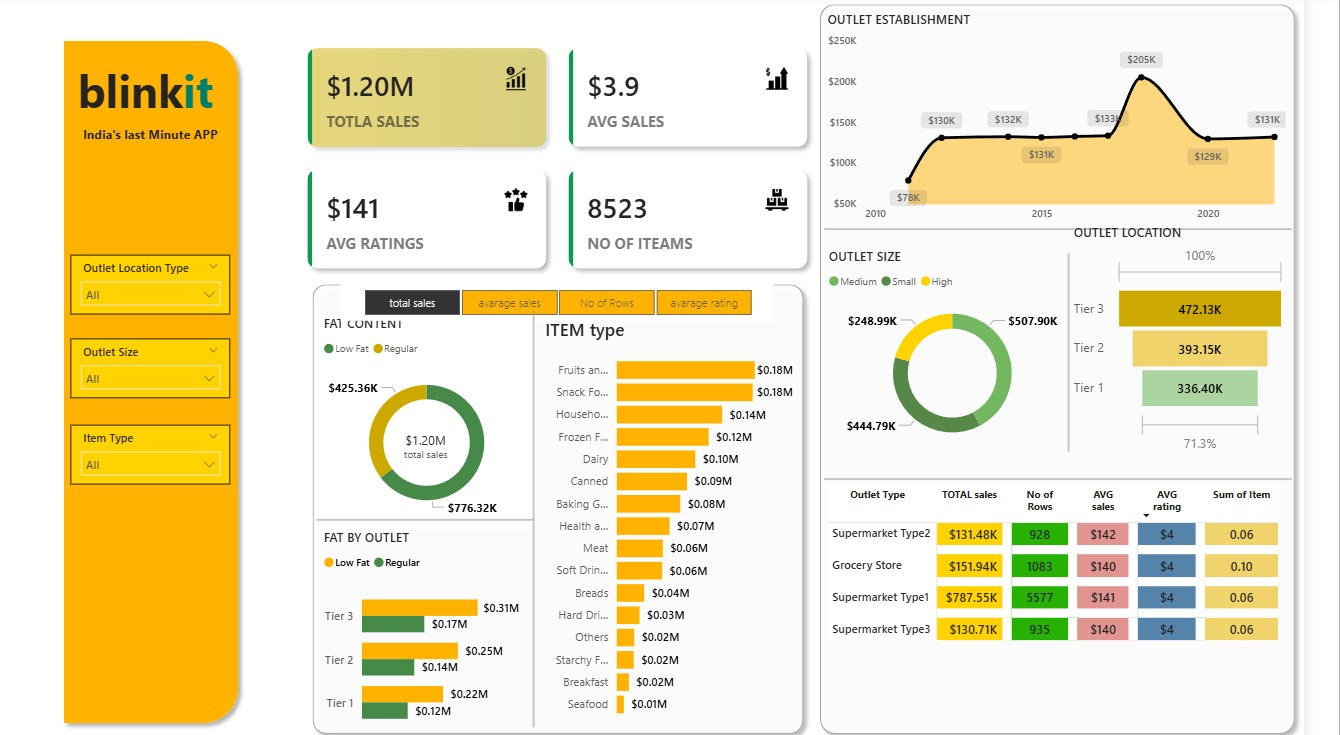

Layout of this report page (visuals, bound fields, positions):
{"tool":"powerbi","page":{"name":"Page 1","canvas":[1400,800],"ordinal":0},"visuals":[{"type":"shape","box":[61.5,39,205,750],"z":0},{"type":"textbox","box":[80.4,63,164.9,85.8],"z":1000},{"type":"textbox","box":[77.7,134,171.6,30.8],"z":2000},{"type":"cardVisual","fields":{"Data":["BlinkIT Grocery Data.total sales","BlinkIT Grocery Data.avarage rating","BlinkIT Grocery Data.avarage sales","BlinkIT Grocery Data.No of Rows"]},"box":[315,38.9,570,270],"z":3000},{"type":"shape","box":[328.4,300.3,544.2,500],"z":4000},{"type":"donutChart","title":"FAT CONTENT","fields":{"Y":["BlinkIT Grocery Data.total sales"],"Category":["BlinkIT Grocery Data.Item Fat Content"]},"box":[344.5,341.8,230.6,229.2],"z":5000},{"type":"slicer","title":"fat b","fields":{"Values":["Matrics.Matrics"]},"box":[367.3,308.3,465.1,40.2],"z":6000},{"type":"cardVisual","fields":{"Data":["BlinkIT Grocery Data.total sales"]},"box":[410.2,442.4,97.9,81.8],"z":7000},{"type":"clusteredBarChart","title":"FAT BY OUTLET","fields":{"Y":["BlinkIT Grocery Data.total sales"],"Category":["BlinkIT Grocery Data.Outlet Location Type"],"Series":["BlinkIT Grocery Data.Item Fat Content"]},"box":[344.5,570.8,219.8,229.2],"z":8000},{"type":"shape","box":[341.8,552.3,233.2,18.8],"z":9000},{"type":"shape","box":[556.3,337.8,36.2,446.4],"z":10000},{"type":"clusteredBarChart","title":"ITEM type","fields":{"Y":["BlinkIT Grocery Data.total sales"],"Category":["BlinkIT Grocery Data.Item Type"]},"box":[581.8,344.5,276.1,439.7],"z":11000},{"type":"shape","box":[872.7,0,526.8,800.3],"z":12000},{"type":"lineChart","title":"OUTLET ESTABLISHMENT","fields":{"Y":["BlinkIT Grocery Data.total sales"],"Category":["BlinkIT Grocery Data.Outlet Establishment Year"]},"box":[884.7,16.1,501.3,234.6],"z":13000},{"type":"shape","box":[886.1,244,501.3,12.1],"z":14000},{"type":"donutChart","title":"OUTLET SIZE","fields":{"Category":["BlinkIT Grocery Data.Outlet Size"],"Y":["BlinkIT Grocery Data.total sales"]},"box":[886.1,269.4,275,225],"z":15000},{"type":"shape","box":[1135.4,276.1,25.5,213.1],"z":16000},{"type":"funnel","title":"OUTLET LOCATION","fields":{"Y":["Sum(BlinkIT Grocery Data.Sales)"],"Category":["BlinkIT Grocery Data.Outlet Location Type"]},"box":[1148.8,244,237.3,250.7],"z":17000},{"type":"shape","box":[886.1,512.1,501.3,12.1],"z":18000},{"type":"pivotTable","fields":{"Rows":["BlinkIT Grocery Data.Outlet Type"],"Values":["BlinkIT Grocery Data.total sales","BlinkIT Grocery Data.No of Rows","BlinkIT Grocery Data.avarage sales","BlinkIT Grocery Data.avarage rating","Avg(BlinkIT Grocery Data.Item Visibility)"]},"box":[884.7,518.8,514.7,248],"z":19000},{"type":"slicer","fields":{"Values":["BlinkIT Grocery Data.Outlet Location Type"]},"box":[77.7,277.5,171.6,64.3],"z":19001},{"type":"slicer","fields":{"Values":["BlinkIT Grocery Data.Outlet Size"]},"box":[77.7,367.3,171.6,64.3],"z":19002},{"type":"slicer","fields":{"Values":["BlinkIT Grocery Data.Item Type"]},"box":[77.7,459.8,171.6,64.3],"z":19003}]}

Visuals, with their boxes on the page's 1400x800 design canvas (x1, y1, x2, y2). These are canvas units, not pixel positions in the 1340x735 screenshot, which may show the page scaled, cropped or inside an application window:
shape: x1=62 y1=39 x2=266 y2=789
textbox: x1=80 y1=63 x2=245 y2=149
textbox: x1=78 y1=134 x2=249 y2=165
cardVisual - BlinkIT Grocery Data.total sales x BlinkIT Grocery Data.avarage rating: x1=315 y1=39 x2=885 y2=309
shape: x1=328 y1=300 x2=873 y2=800
"FAT CONTENT" donutChart: x1=344 y1=342 x2=575 y2=571
"fat b" slicer: x1=367 y1=308 x2=832 y2=348
cardVisual - BlinkIT Grocery Data.total sales: x1=410 y1=442 x2=508 y2=524
"FAT BY OUTLET" clusteredBarChart: x1=344 y1=571 x2=564 y2=800
shape: x1=342 y1=552 x2=575 y2=571
shape: x1=556 y1=338 x2=592 y2=784
"ITEM type" clusteredBarChart: x1=582 y1=344 x2=858 y2=784
shape: x1=873 y1=0 x2=1400 y2=800
"OUTLET ESTABLISHMENT" lineChart: x1=885 y1=16 x2=1386 y2=251
shape: x1=886 y1=244 x2=1387 y2=256
"OUTLET SIZE" donutChart: x1=886 y1=269 x2=1161 y2=494
shape: x1=1135 y1=276 x2=1161 y2=489
"OUTLET LOCATION" funnel: x1=1149 y1=244 x2=1386 y2=495
shape: x1=886 y1=512 x2=1387 y2=524
pivotTable - BlinkIT Grocery Data.Outlet Type x BlinkIT Grocery Data.total sales: x1=885 y1=519 x2=1399 y2=767
slicer - BlinkIT Grocery Data.Outlet Location Type: x1=78 y1=278 x2=249 y2=342
slicer - BlinkIT Grocery Data.Outlet Size: x1=78 y1=367 x2=249 y2=432
slicer - BlinkIT Grocery Data.Item Type: x1=78 y1=460 x2=249 y2=524
